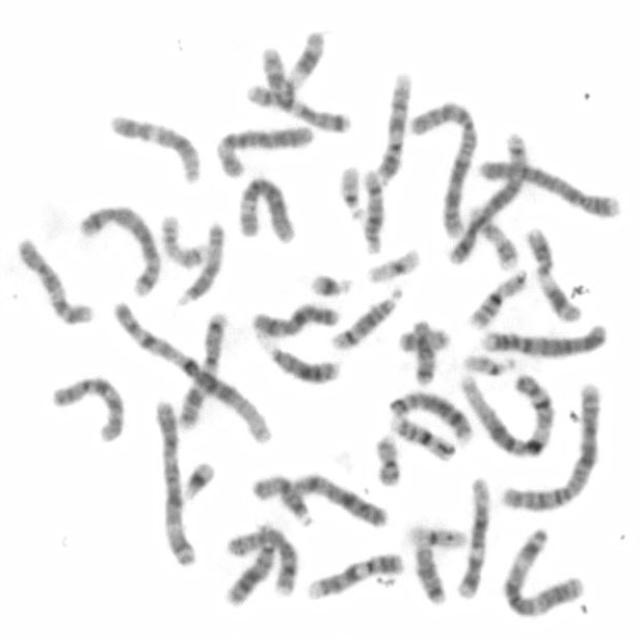A1: (108, 296, 278, 446), (455, 366, 558, 460)
A2: (496, 377, 604, 514), (407, 95, 479, 239)
A3: (148, 396, 200, 570), (498, 524, 587, 620)
B4: (474, 154, 622, 221), (476, 317, 610, 360)
B5: (444, 128, 530, 263), (75, 200, 162, 299)
C10: (12, 232, 98, 328), (47, 370, 127, 444)
C11: (243, 26, 327, 108), (520, 222, 586, 325)
C12: (104, 109, 204, 184), (452, 470, 492, 601)
C6: (213, 121, 317, 179), (232, 172, 298, 246)
C7: (257, 40, 353, 136), (173, 304, 230, 432)
C8: (222, 523, 302, 601), (384, 386, 476, 444)
C9: (302, 547, 408, 603), (372, 66, 413, 186)
D13: (219, 526, 280, 609), (259, 338, 344, 385)
D14: (325, 282, 405, 351), (358, 168, 386, 256)
D15: (172, 218, 228, 308), (247, 469, 315, 527)
E16: (464, 266, 529, 331), (387, 410, 459, 463)
E17: (466, 203, 520, 271), (157, 210, 209, 270)
E18: (410, 539, 449, 606), (408, 316, 438, 387)
F19: (365, 243, 424, 285), (401, 518, 470, 551)
F20: (370, 430, 403, 489), (396, 323, 452, 354)
G21: (178, 455, 217, 503), (306, 268, 356, 299)
G22: (334, 157, 368, 220), (457, 348, 519, 377)
X: (288, 468, 390, 530), (247, 298, 344, 340)
